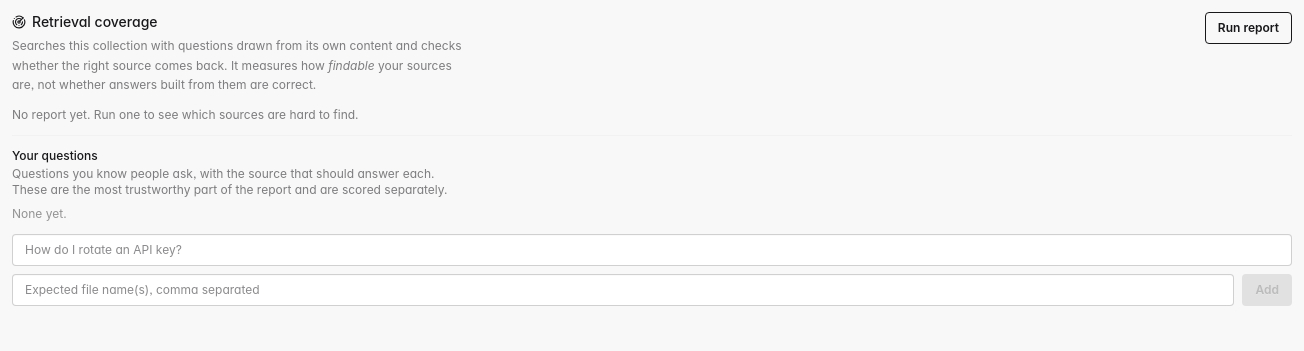
Scenario: CoverageReportPanel › shows the server message when a run cannot start
The width and height of the screenshot is (1304, 351).
Click the button with test id "coverage-run". click: coordinates (1248, 28)
box: [1205,12,1292,44]
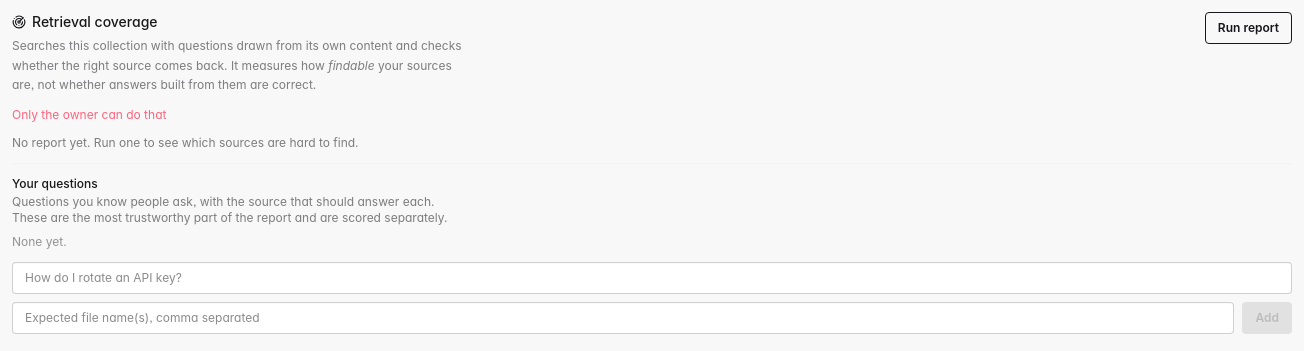
Result: the message with test id "coverage-error" reads "Only the owner can do that" at [12,106,166,122]
